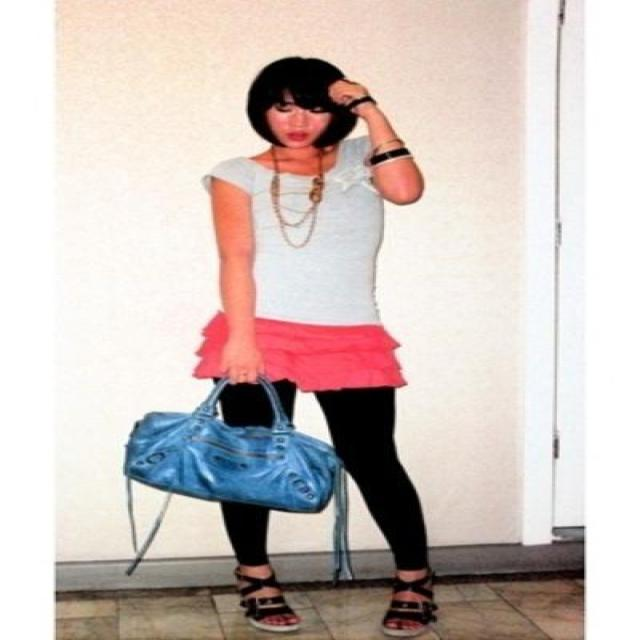bag: (123, 378, 347, 524)
shirt: (211, 150, 389, 326)
shoe: (228, 565, 450, 626)
skirt: (192, 312, 402, 397)
